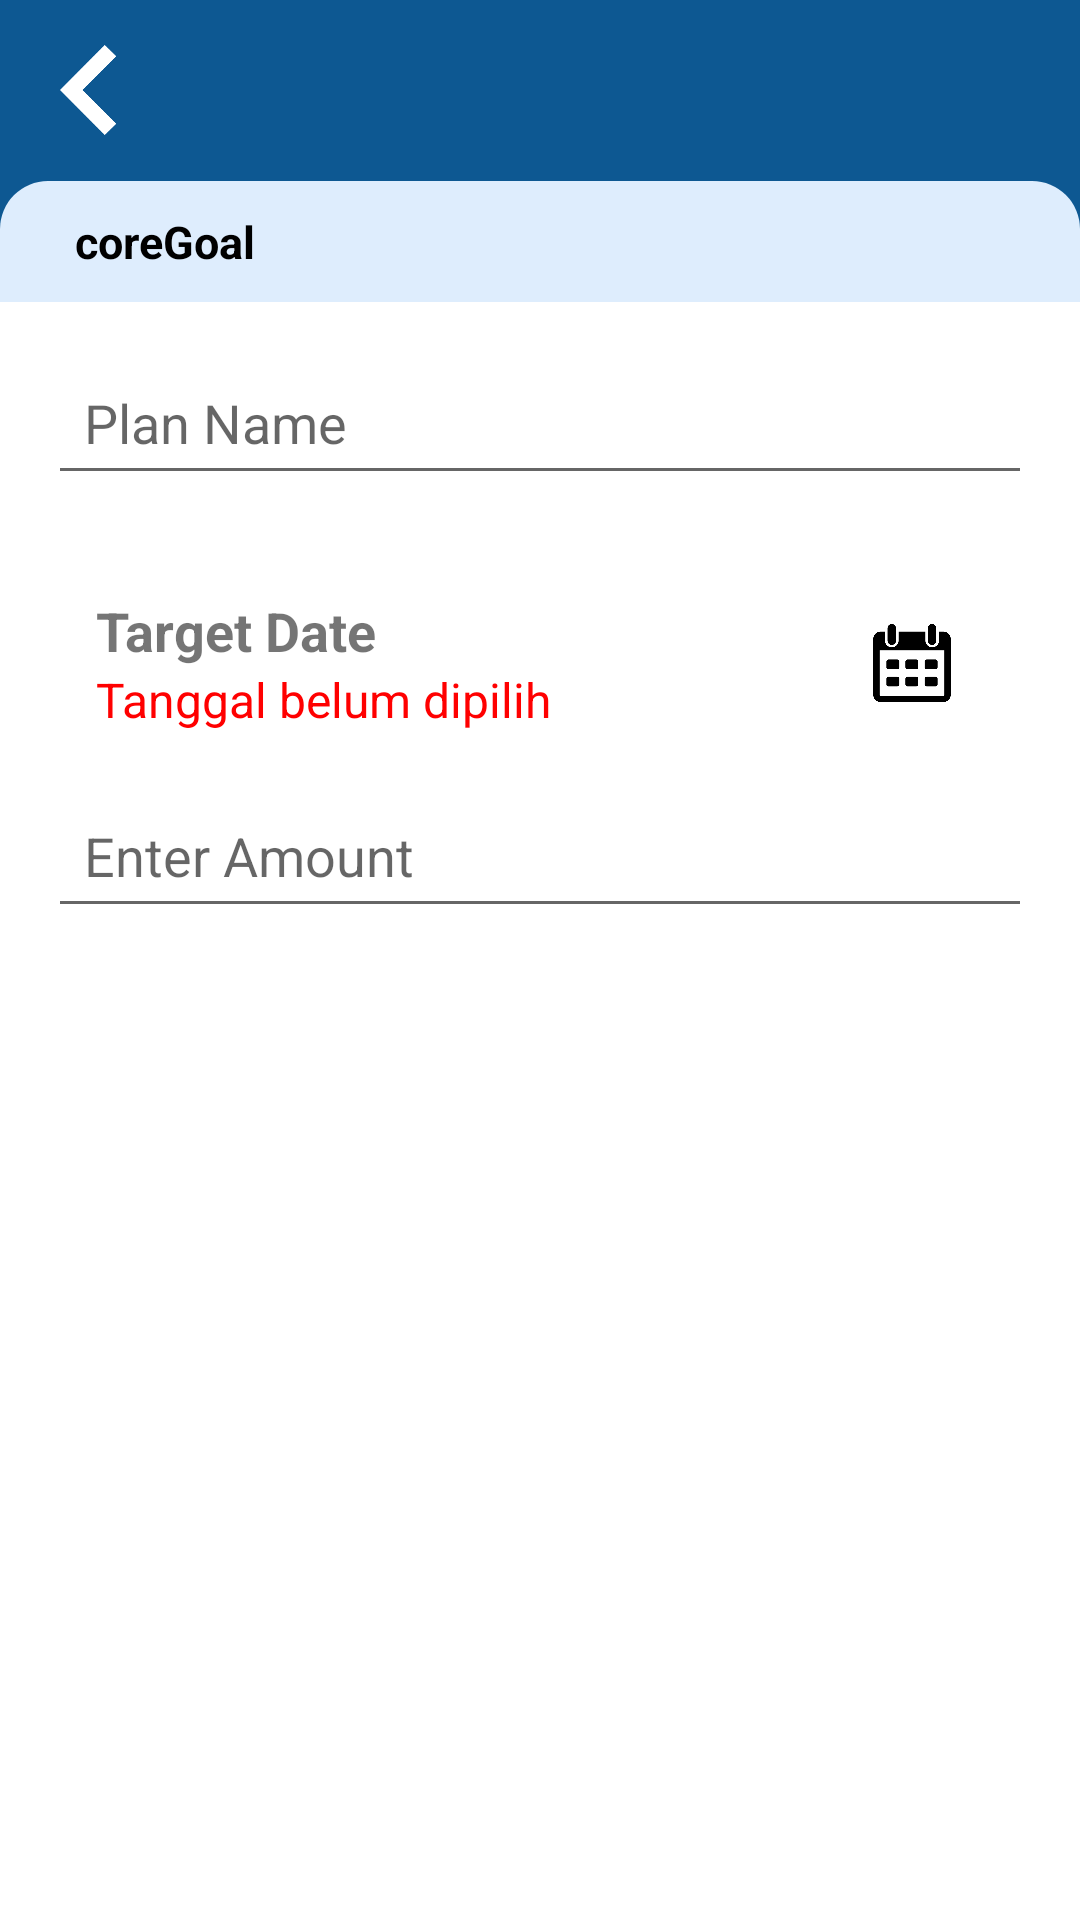

Where to tap for icons on this 1080 × 1920 app screen, as (x=x, y=y):
Pilih Tanggal: (x=912, y=663)
